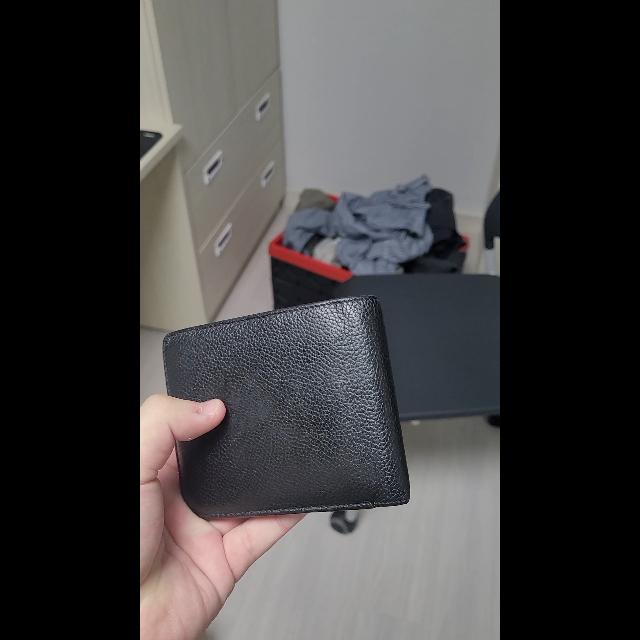WALLET: (162, 296, 410, 520)
